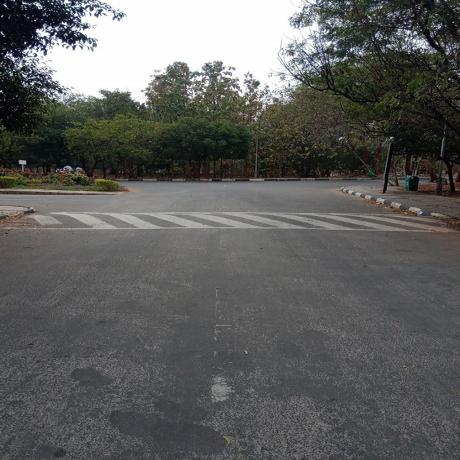Speed Bump: (24, 211, 458, 233)
